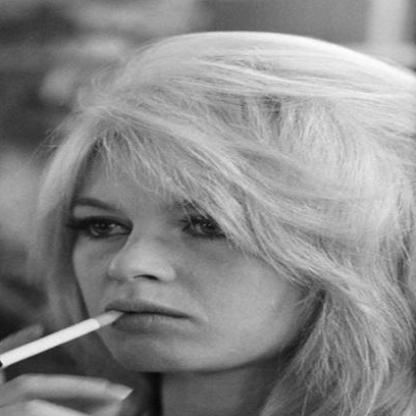cigarette: (0, 307, 122, 370)
person: (70, 40, 415, 415)
